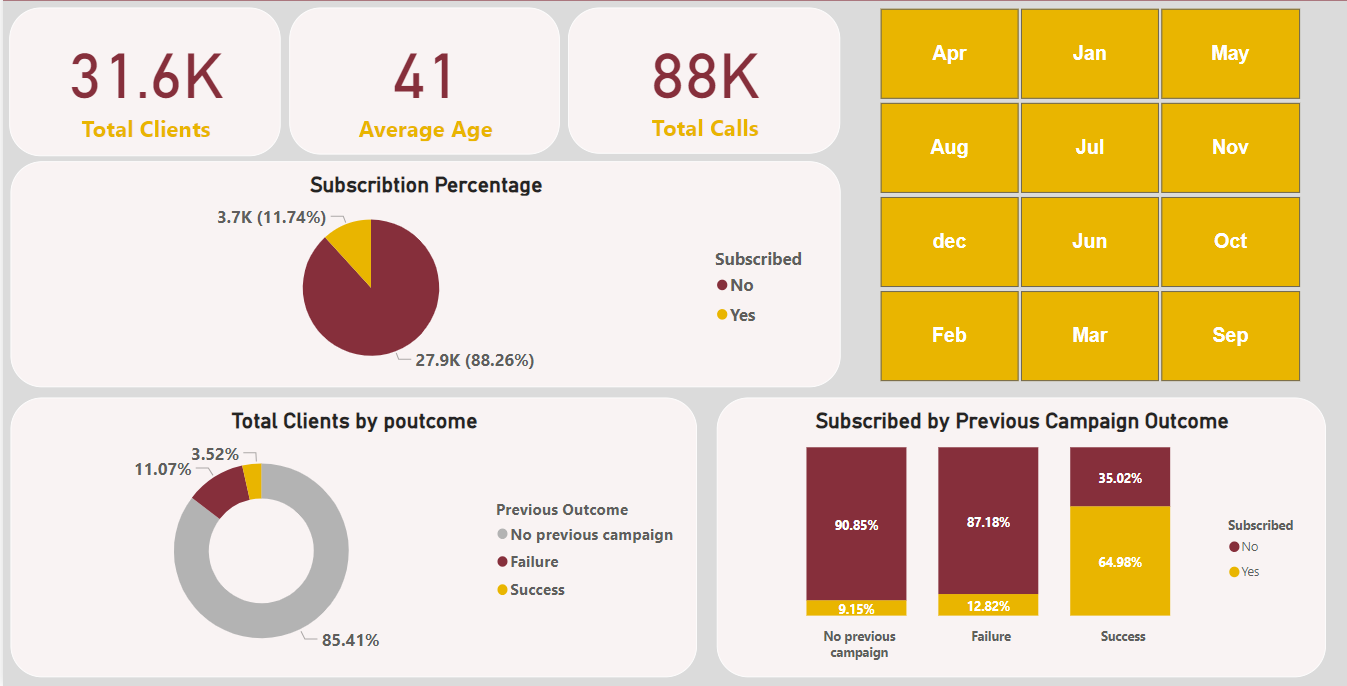

Layout of this report page (visuals, bound fields, positions):
{"tool":"powerbi","page":{"name":"General","canvas":[1280,720],"ordinal":0},"visuals":[{"type":"pieChart","title":"Subscribtion Percentage","fields":{"Category":["Term Deposit.subscribed"],"Y":["Term Deposit.Total Clients"]},"box":[6.7,220,790,215.6],"z":0},{"type":"card","fields":{"Values":["Term Deposit.Total Clients"]},"box":[6.4,73.6,258.6,141.4],"z":1000},{"type":"textbox","box":[0,0,1280,67.2],"z":2000},{"type":"card","fields":{"Values":["Term Deposit.Total Calls"]},"box":[537.9,73.6,259.3,139.3],"z":3000},{"type":"card","fields":{"Values":["Term Deposit.Average Age"]},"box":[272.9,74.3,257.9,140],"z":4000},{"type":"hundredPercentStackedColumnChart","title":"Subscribed by Previous Campaign Outcome","fields":{"Y":["CountNonNull(Term Deposit.subscribed)"],"Series":["Term Deposit.subscribed"],"Category":["Term Deposit.poutcome"]},"box":[680,445,580,266.7],"z":5000},{"type":"donutChart","fields":{"Y":["Term Deposit.Total Clients"],"Category":["Term Deposit.poutcome"]},"box":[6.7,445,653.3,266.7],"z":6000},{"type":"slicer","fields":{"Values":["Term Deposit.month"]},"box":[809.5,68.3,449.2,368.3],"z":7000}]}

Visuals, with their boxes on the page's 1280x720 design canvas (x1, y1, x2, y2). These are canvas units, not pixel positions in the 1347x686 screenshot, which may show the page scaled, cropped or inside an application window:
"Subscribtion Percentage" pieChart: [left=7, top=220, right=797, bottom=436]
card - Term Deposit.Total Clients: [left=6, top=74, right=265, bottom=215]
textbox: [left=0, top=0, right=1280, bottom=67]
card - Term Deposit.Total Calls: [left=538, top=74, right=797, bottom=213]
card - Term Deposit.Average Age: [left=273, top=74, right=531, bottom=214]
"Subscribed by Previous Campaign Outcome" hundredPercentStackedColumnChart: [left=680, top=445, right=1260, bottom=712]
donutChart - Term Deposit.Total Clients x Term Deposit.poutcome: [left=7, top=445, right=660, bottom=712]
slicer - Term Deposit.month: [left=810, top=68, right=1259, bottom=437]
